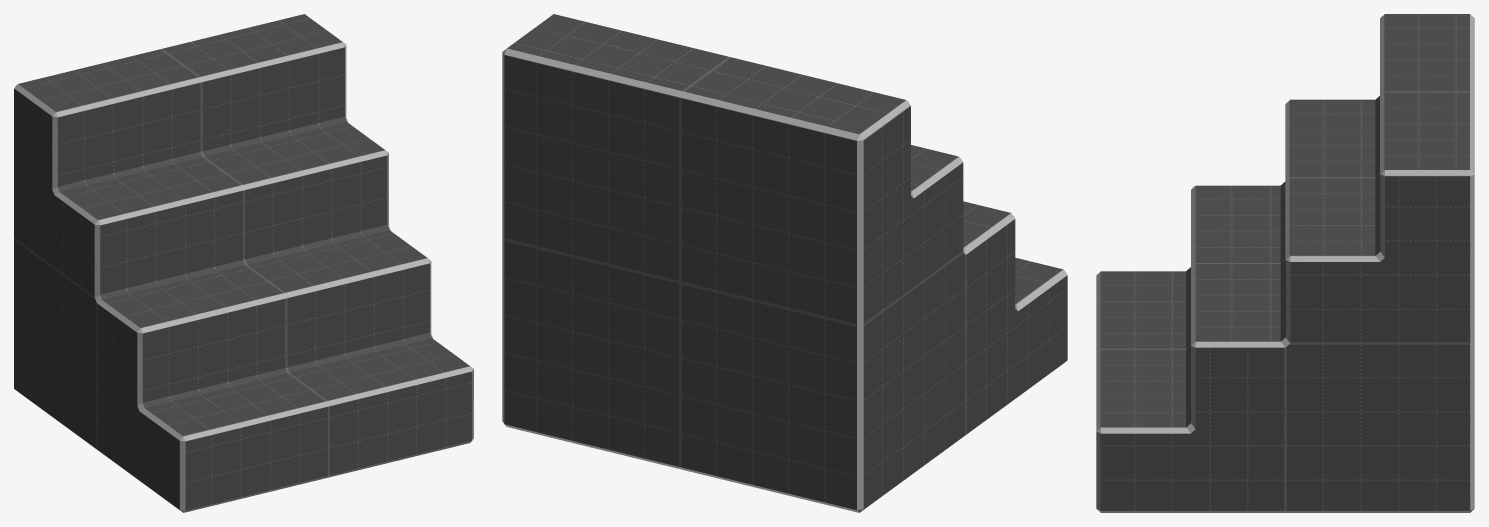
Rendered from Stairs1x1x1.fbx.
3 views of the same model, side by side, from view 1: azimuth 30°, elevation 25°; view 2: azimuth 150°, elevation 25°; view 3: azimuth 270°, elevation 25° (orthographic). The views are drawn at different scales.
Parts seen in each view (by area): view 1: Stairs1x1x1; view 2: Stairs1x1x1; view 3: Stairs1x1x1.
Boxes of the visible parts, left/top/right/bottom form: Stairs1x1x1: left=14, top=14, right=473, bottom=512; Stairs1x1x1: left=502, top=14, right=1067, bottom=512; Stairs1x1x1: left=1096, top=14, right=1474, bottom=512.
Size of the model in its own units: 100 by 100 by 100.
